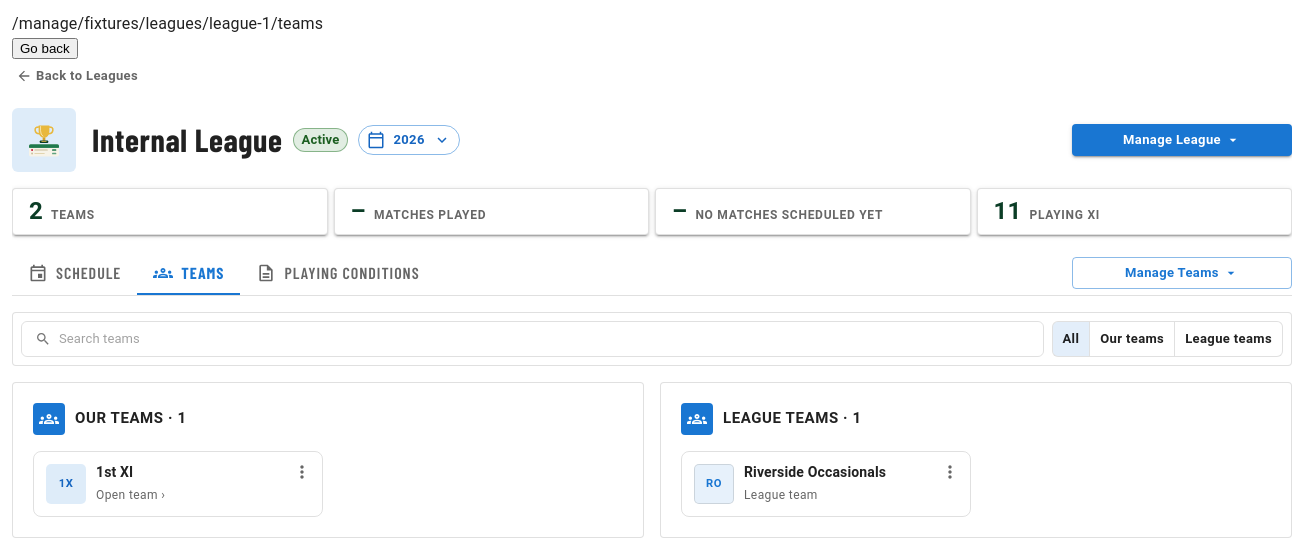
Test: LeagueTeamsView › the All | Our teams | League teams switch shows one card or both, with counts in its labels and no Showing line
This screenshot has width=1304, height=555.
Expected: the element with test id "league-teams-own" is shown, [12,382,644,538]
Expected: the button "All" is shown, [1052,322,1089,356]
Click the button "Our teams": (1132, 339) [1089,322,1174,356]
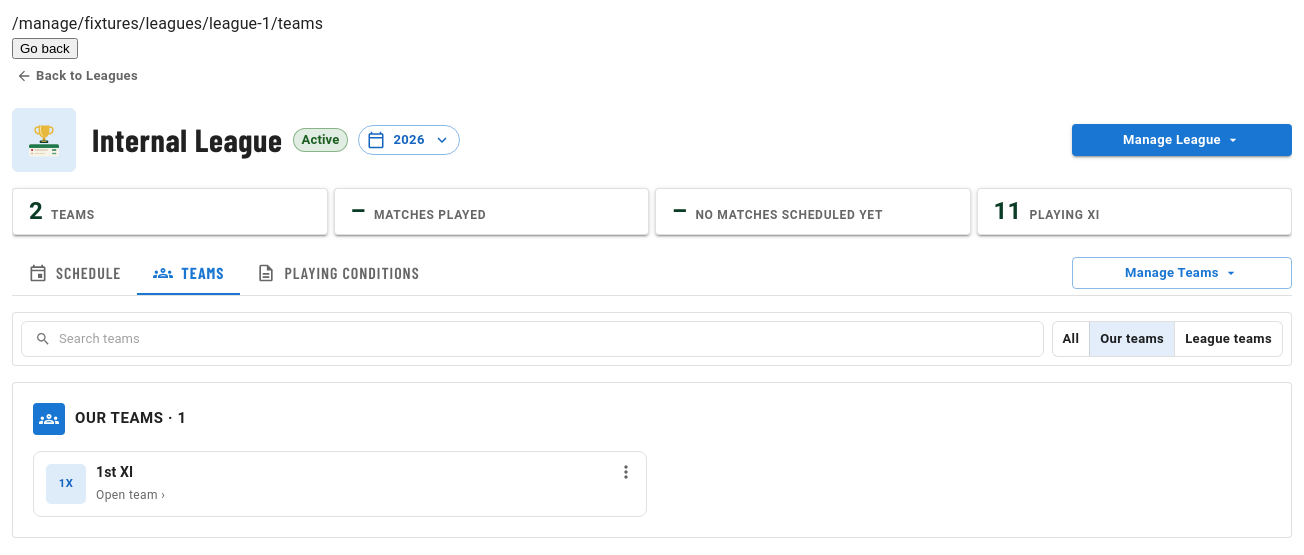
Expected: the element with test id "league-teams-own" is shown, [12,382,1292,538]
Expected: the element with test id "league-teams-league" is gone
Click the button "League teams": (1228, 339) [1174,322,1282,356]
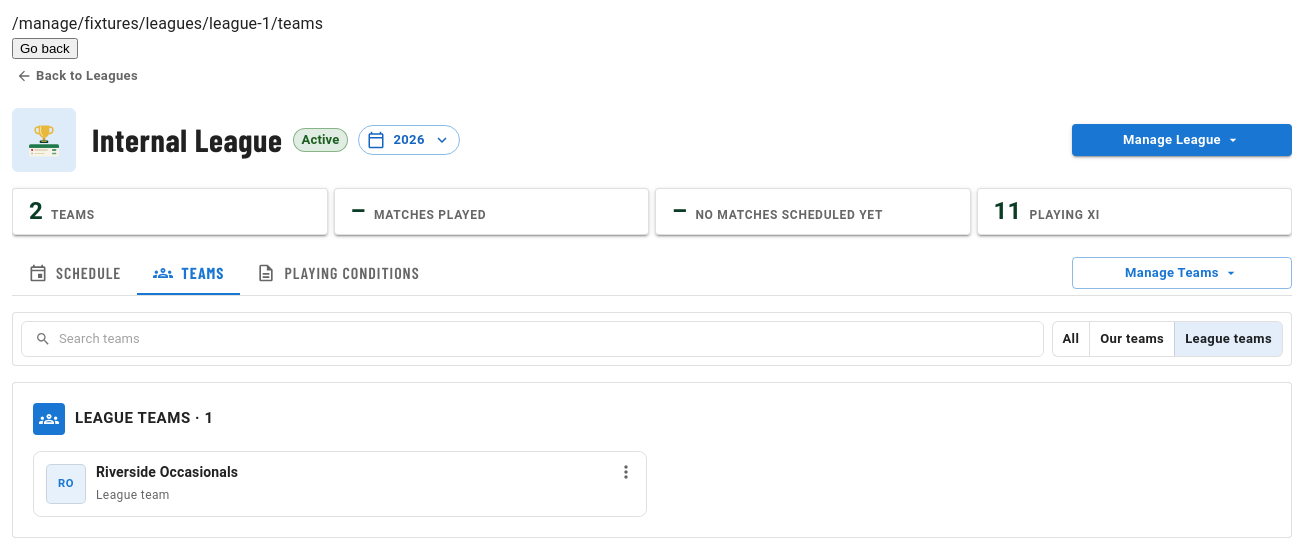
Expected: the element with test id "league-teams-own" is gone
Expected: the element with test id "league-teams-league" is shown, [12,382,1292,538]
Click the button "All": (1071, 339) [1052,322,1089,356]
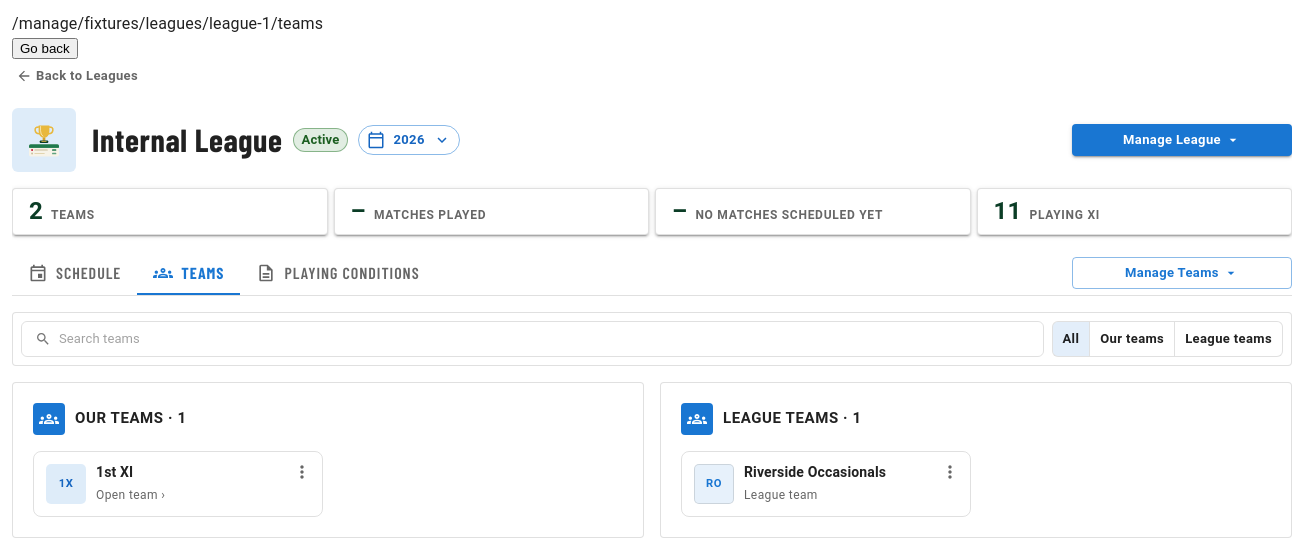
Expected: the element with test id "league-teams-own" is shown, [12,382,644,538]
